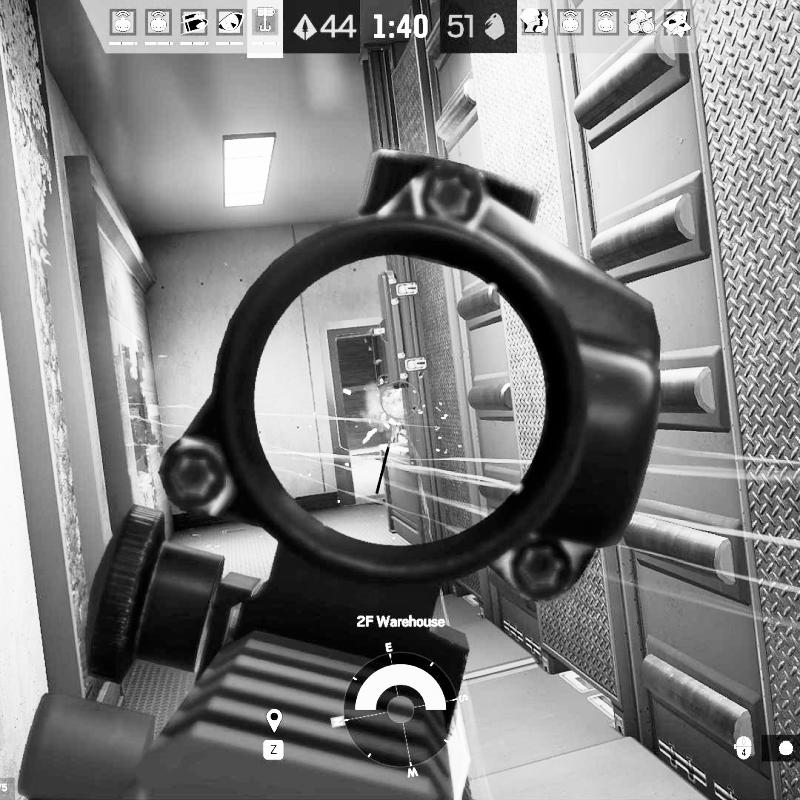Character: (374, 373, 410, 448)
Head: (378, 375, 394, 396)
